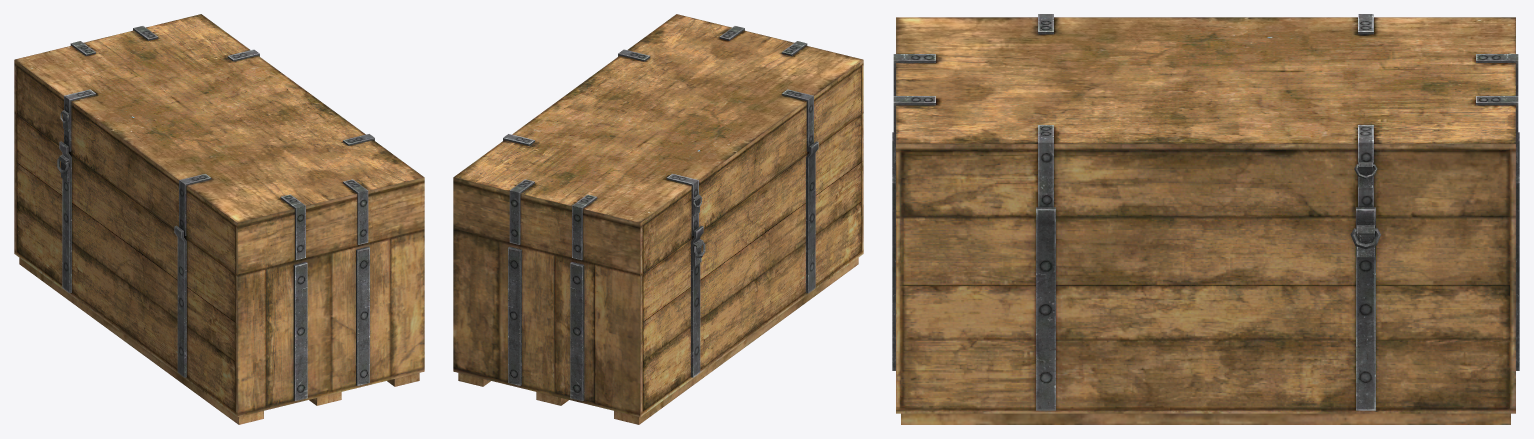
Rendered from VV_Airfield_Crate_1.fbx.
The picture shows the model from 3 angles, left to right: view 1: azimuth 30°, elevation 25°; view 2: azimuth 150°, elevation 25°; view 3: azimuth 270°, elevation 25°; orthographic projection. The views are drawn at different scales.
Parts seen in each view (by area): view 1: VV_Airfield_Crate_1; view 2: VV_Airfield_Crate_1; view 3: VV_Airfield_Crate_1.
Part boxes in pixels (box(x1,y1,x2,y2)): VV_Airfield_Crate_1: box(14, 14, 424, 424); VV_Airfield_Crate_1: box(453, 14, 863, 424); VV_Airfield_Crate_1: box(892, 14, 1519, 424).
Bounding box in the file's own units: 89.11 × 85.93 × 171.
1 material, 1 textured.
